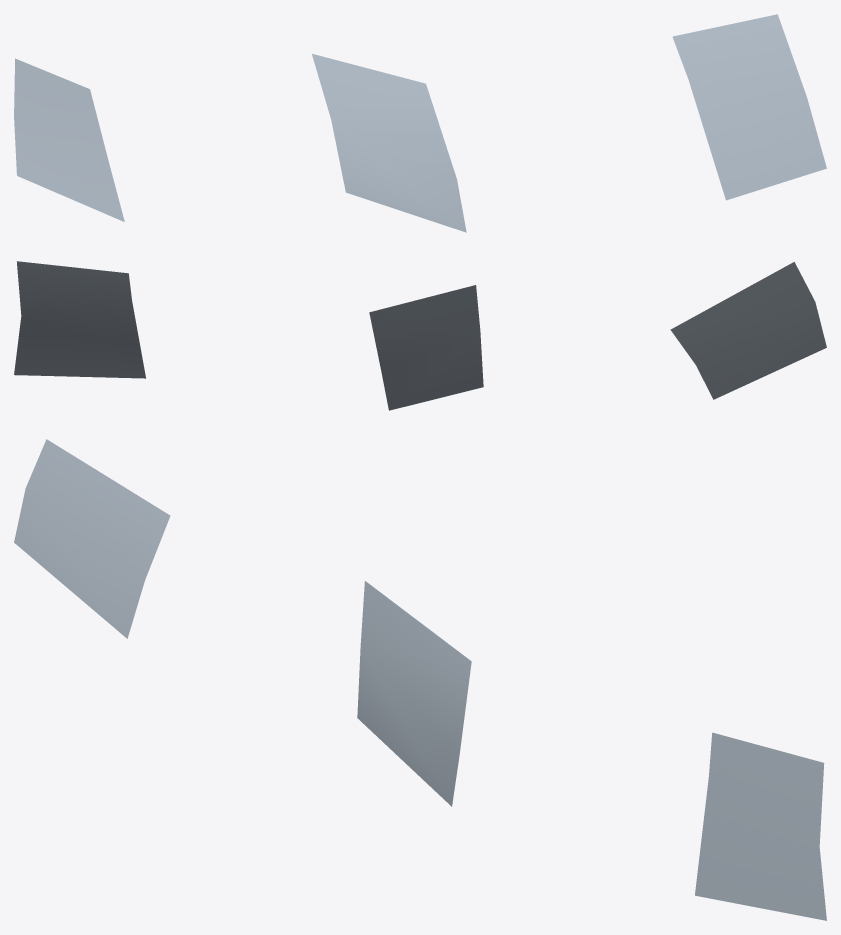
The model's file is deep-transverse-metacarpal-ligament-l.glb.
The picture shows the model from 3 angles, top to bottom: view 1: azimuth 30°, elevation 25°; view 2: azimuth 150°, elevation 25°; view 3: azimuth 330°, elevation 25°; orthographic projection. The views are drawn at different scales.
Parts seen in each view (by area): view 1: Deep transverse metacarpal ligament.l; view 2: Deep transverse metacarpal ligament.l; view 3: Deep transverse metacarpal ligament.l.
Boxes of the visible parts, left/top/right/bottom form: Deep transverse metacarpal ligament.l: left=14, top=14, right=826, bottom=232; Deep transverse metacarpal ligament.l: left=14, top=261, right=826, bottom=410; Deep transverse metacarpal ligament.l: left=14, top=439, right=826, bottom=920.
Size of the model in its own units: 0.0456 by 0.0164 by 0.00454.
